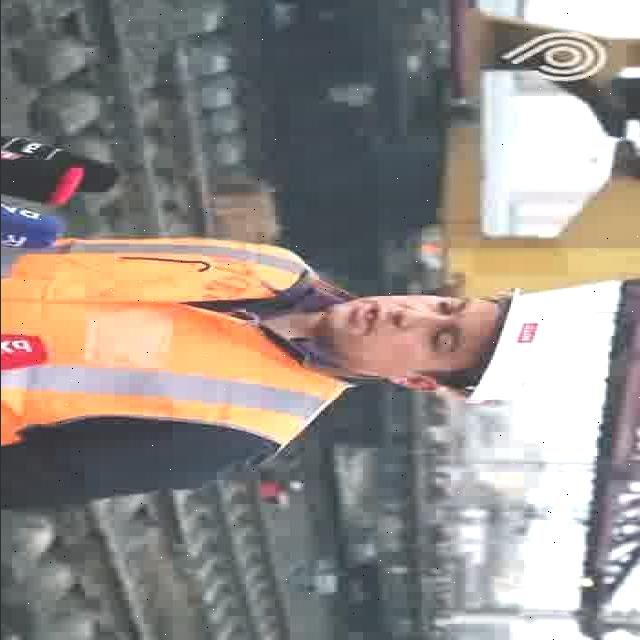Helmet: (458, 292, 601, 402)
Vest: (1, 235, 366, 470)
